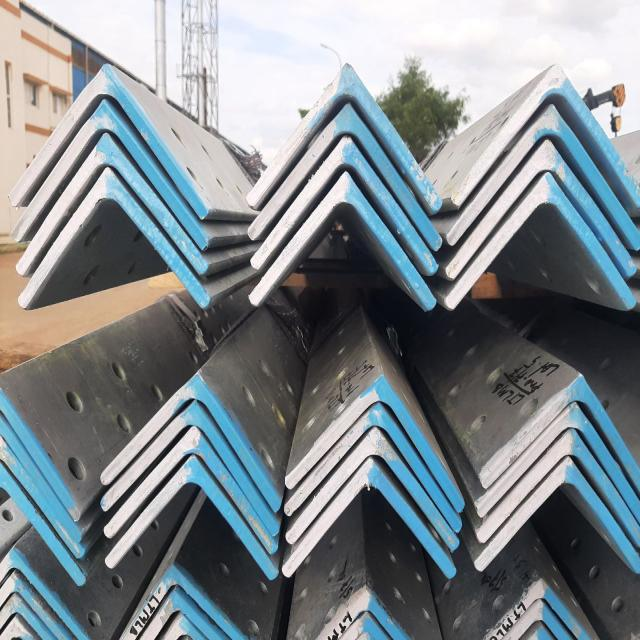metal-angles: (8, 60, 210, 221), (11, 98, 209, 251), (246, 61, 442, 212), (247, 103, 442, 251), (447, 103, 640, 251), (16, 132, 209, 277), (450, 63, 640, 208), (18, 166, 210, 309), (446, 139, 638, 279), (446, 171, 637, 310), (251, 135, 439, 276), (249, 171, 437, 311), (100, 374, 282, 513), (285, 373, 465, 513), (100, 399, 280, 538), (284, 401, 462, 532), (103, 425, 278, 554), (105, 454, 278, 580), (285, 427, 460, 551), (283, 458, 457, 579), (477, 401, 640, 525), (476, 429, 640, 548), (474, 456, 640, 573), (481, 374, 640, 493), (120, 562, 250, 640), (0, 546, 91, 640), (480, 575, 593, 640), (316, 586, 414, 640), (0, 571, 74, 640), (140, 587, 230, 640), (0, 592, 58, 640)
